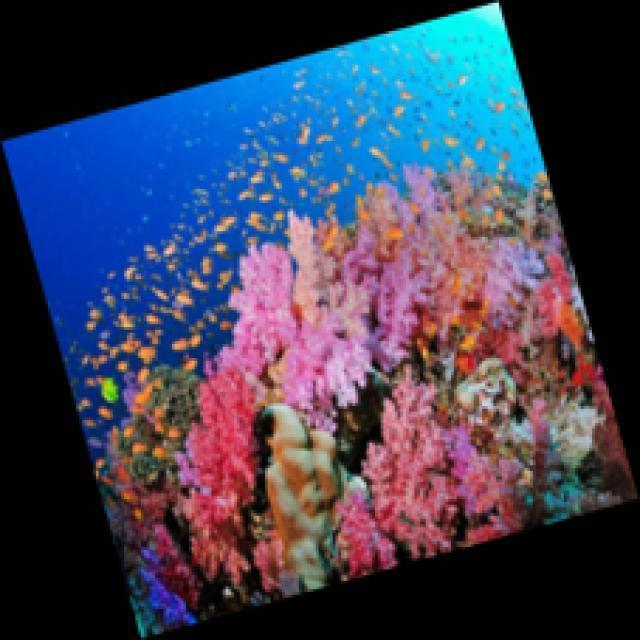Bleached: (267, 404, 364, 594)
Healthy: (344, 372, 520, 589), (356, 181, 538, 376), (219, 240, 366, 410), (184, 370, 252, 587)
